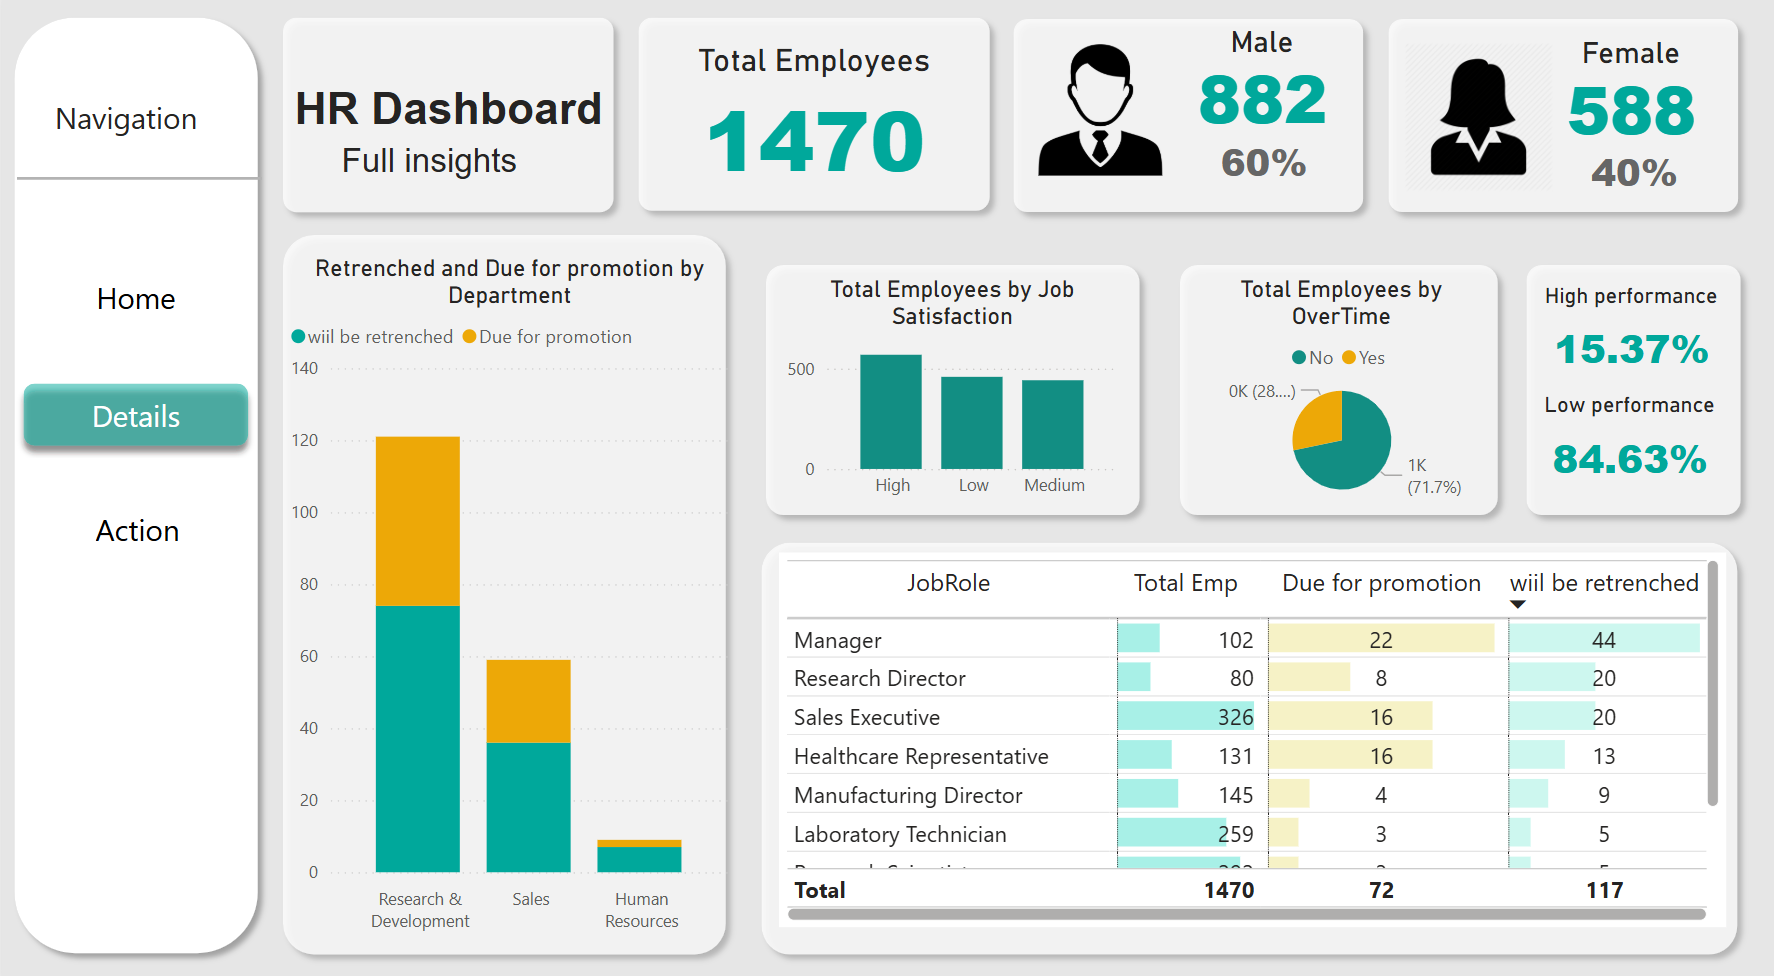

The page's visual inventory and layout, read from the dashboard file:
{"tool":"powerbi","page":{"name":"Details","canvas":[1280,720],"ordinal":1},"visuals":[{"type":"shape","box":[0,10.9,193.3,692.4],"z":0},{"type":"shape","box":[193.3,10.9,256.2,158.3],"z":1000},{"type":"shape","box":[449.5,11.2,271.1,157.3],"z":2000},{"type":"shape","box":[720,11.4,270,157.1],"z":3000},{"type":"shape","box":[990,11.4,270,157.1],"z":4000},{"type":"textbox","box":[193.3,61.6,257.4,54.4],"z":5000},{"type":"textbox","box":[179.8,103.9,257,40.7],"z":6000},{"type":"card","title":"Total Employees","fields":{"Values":["All measures.Total Emp"]},"box":[463.5,36.5,243,108.1],"z":7000},{"type":"card","title":"Male","fields":{"Values":["All measures.male"]},"box":[839.9,25.3,136.2,78.7],"z":8000},{"type":"card","title":"Male","fields":{"Values":["All measures.% male"]},"box":[841.3,103.9,136.2,40.7],"z":9000},{"type":"card","title":"Female","fields":{"Values":["All measures.Female"]},"box":[1106.5,32.5,136.2,78.7],"z":10000},{"type":"card","title":"Male","fields":{"Values":["All measures.% female"]},"box":[1107.9,111.1,136.2,40.7],"z":11000},{"type":"image","box":[741.6,32.3,99.7,108.1],"z":12000},{"type":"image","box":[1002.8,32.3,122.2,118],"z":13000},{"type":"shape","box":[193.3,168,337.1,536.5],"z":14000},{"type":"columnChart","title":"Retrenched and Due for promotion by Department","fields":{"Category":["HR Analytics Data.Department"],"Y":["All measures.wiil be retrenched","All measures.Due for promotion"]},"box":[202.5,190,327.5,496.2],"z":15000},{"type":"shape","box":[541.4,189.6,287.2,198.2],"z":16000},{"type":"shape","box":[840.1,189.6,247,198.2],"z":17000},{"type":"shape","box":[1090,189.6,172.3,198.2],"z":18000},{"type":"shape","box":[538.8,388.8,721.2,315],"z":19000},{"type":"columnChart","title":"Total Employees by Job Satisfaction","fields":{"Y":["All measures.Total Emp"],"Category":["HR Analytics Data.Job Satisfaction"]},"box":[560.1,205.4,249.9,169.5],"z":20000},{"type":"pieChart","title":"Total Employees by OverTime","fields":{"Category":["HR Analytics Data.OverTime"],"Y":["All measures.Total Emp"]},"box":[854.5,205.4,222.6,169.5],"z":21000},{"type":"tableEx","fields":{"Values":["HR Analytics Data.JobRole","All measures.Total Emp","All measures.Due for promotion","All measures.wiil be retrenched"]},"box":[560,405,682.5,270],"z":22000},{"type":"card","title":"High performance","fields":{"Values":["All measures.% high"]},"box":[1105.8,211.1,136.4,77.5],"z":23000},{"type":"card","title":"Low performance","fields":{"Values":["All measures.% Low"]},"box":[1105,290,136.2,77.5],"z":24000},{"type":"shape","box":[10.9,129.3,176.4,12.1],"z":25000},{"type":"textbox","box":[16.2,71.2,146.2,52.5],"z":26000},{"type":"actionButton","box":[6,189.7,180,62.8],"z":27000},{"type":"actionButton","box":[6,274.3,180,62.8],"z":28000},{"type":"actionButton","box":[7.2,356.5,180,62.8],"z":29000}]}

Visuals, with their boxes in screenshot pixels (x1, y1, x2, y2), scaled from the page's 1280x720 canvas onto the 1774x976 screenshot:
shape: [left=0, top=15, right=268, bottom=953]
shape: [left=268, top=15, right=623, bottom=229]
shape: [left=623, top=15, right=999, bottom=228]
shape: [left=998, top=15, right=1372, bottom=228]
shape: [left=1372, top=15, right=1746, bottom=228]
textbox: [left=268, top=84, right=625, bottom=157]
textbox: [left=249, top=141, right=605, bottom=196]
"Total Employees" card: [left=642, top=49, right=979, bottom=196]
"Male" card: [left=1164, top=34, right=1353, bottom=141]
"Male" card: [left=1166, top=141, right=1355, bottom=196]
"Female" card: [left=1534, top=44, right=1722, bottom=151]
"Male" card: [left=1535, top=151, right=1724, bottom=206]
image: [left=1028, top=44, right=1166, bottom=190]
image: [left=1390, top=44, right=1559, bottom=204]
shape: [left=268, top=228, right=735, bottom=955]
"Retrenched and Due for promotion by Department" columnChart: [left=281, top=258, right=735, bottom=930]
shape: [left=750, top=257, right=1148, bottom=526]
shape: [left=1164, top=257, right=1507, bottom=526]
shape: [left=1511, top=257, right=1749, bottom=526]
shape: [left=747, top=527, right=1746, bottom=954]
"Total Employees by Job Satisfaction" columnChart: [left=776, top=278, right=1123, bottom=508]
"Total Employees by OverTime" pieChart: [left=1184, top=278, right=1493, bottom=508]
tableEx - HR Analytics Data.JobRole x All measures.Total Emp: [left=776, top=549, right=1722, bottom=915]
"High performance" card: [left=1533, top=286, right=1722, bottom=391]
"Low performance" card: [left=1531, top=393, right=1720, bottom=498]
shape: [left=15, top=175, right=260, bottom=192]
textbox: [left=22, top=97, right=225, bottom=168]
actionButton: [left=8, top=257, right=258, bottom=342]
actionButton: [left=8, top=372, right=258, bottom=457]
actionButton: [left=10, top=483, right=259, bottom=568]
